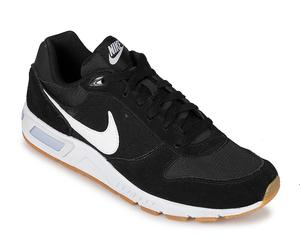nike: (42, 87, 120, 155)
